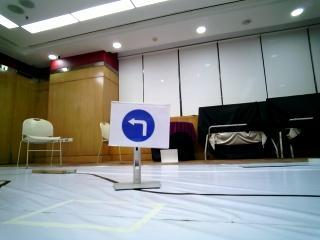left: (115, 107, 169, 146)
